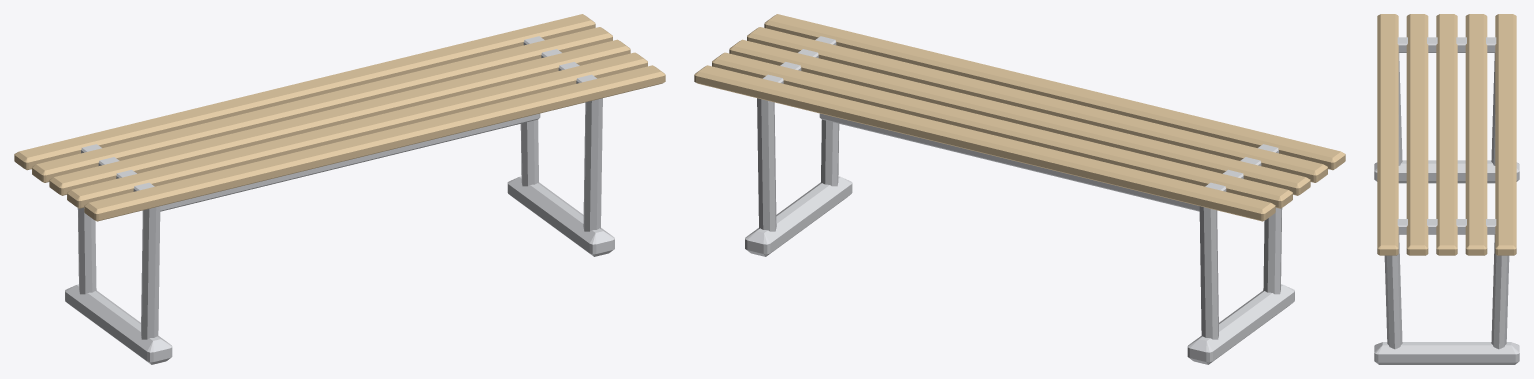
The model's file is university-lecture-hall-and-campus-corridor-bench-7e768040__34770.glb.
3 views of the same model, side by side, from view 1: azimuth 30°, elevation 25°; view 2: azimuth 150°, elevation 25°; view 3: azimuth 270°, elevation 25° (orthographic). The views are drawn at different scales.
Parts seen in each view (by area): view 1: corridor-bench; view 2: corridor-bench; view 3: corridor-bench.
Boxes of the visible parts, left/top/right/bottom form: corridor-bench: left=14, top=14, right=665, bottom=364; corridor-bench: left=694, top=14, right=1345, bottom=364; corridor-bench: left=1374, top=14, right=1519, bottom=364.
Bounding box in the file's own units: 1.6 × 0.45 × 0.42.
